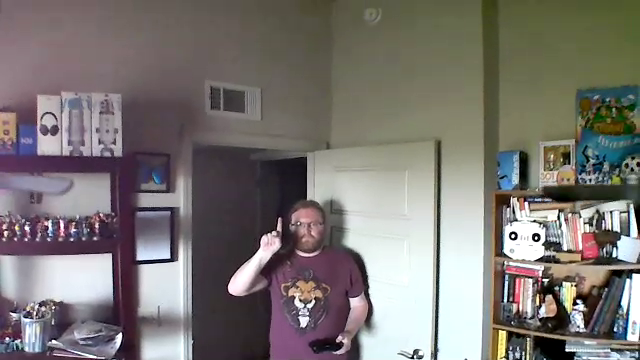up: (253, 214, 289, 256)
